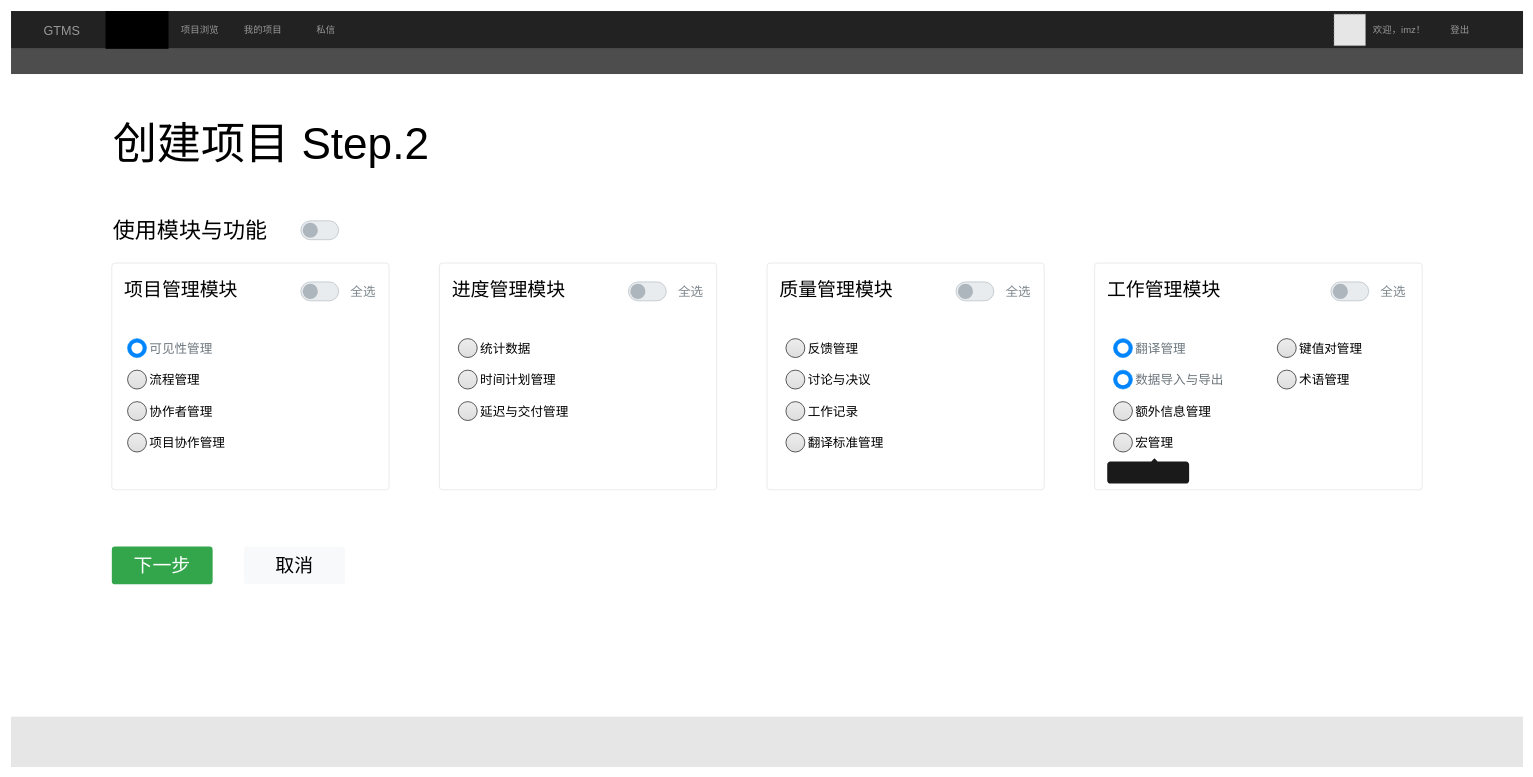
The diagram is 1533 pixels wide and 777 high, and some of its shapes have lost their labels. Grey dashed boxes stand in for pictures. The shapes that lost their labels are listed below. From the top down, each one's centre as x and y in pixels, then its label:
At (x=136, y=30): "仪表板".
At (x=767, y=61): "项目浏览 / 创建项目 / Step 1 / Step 2".
At (x=319, y=230): "全部选择".
At (x=1148, y=470): "管理游戏翻译中的宏并提供测试用例".
At (x=767, y=741): "Yifan Xu 毕业设计 @天津工业大学".
